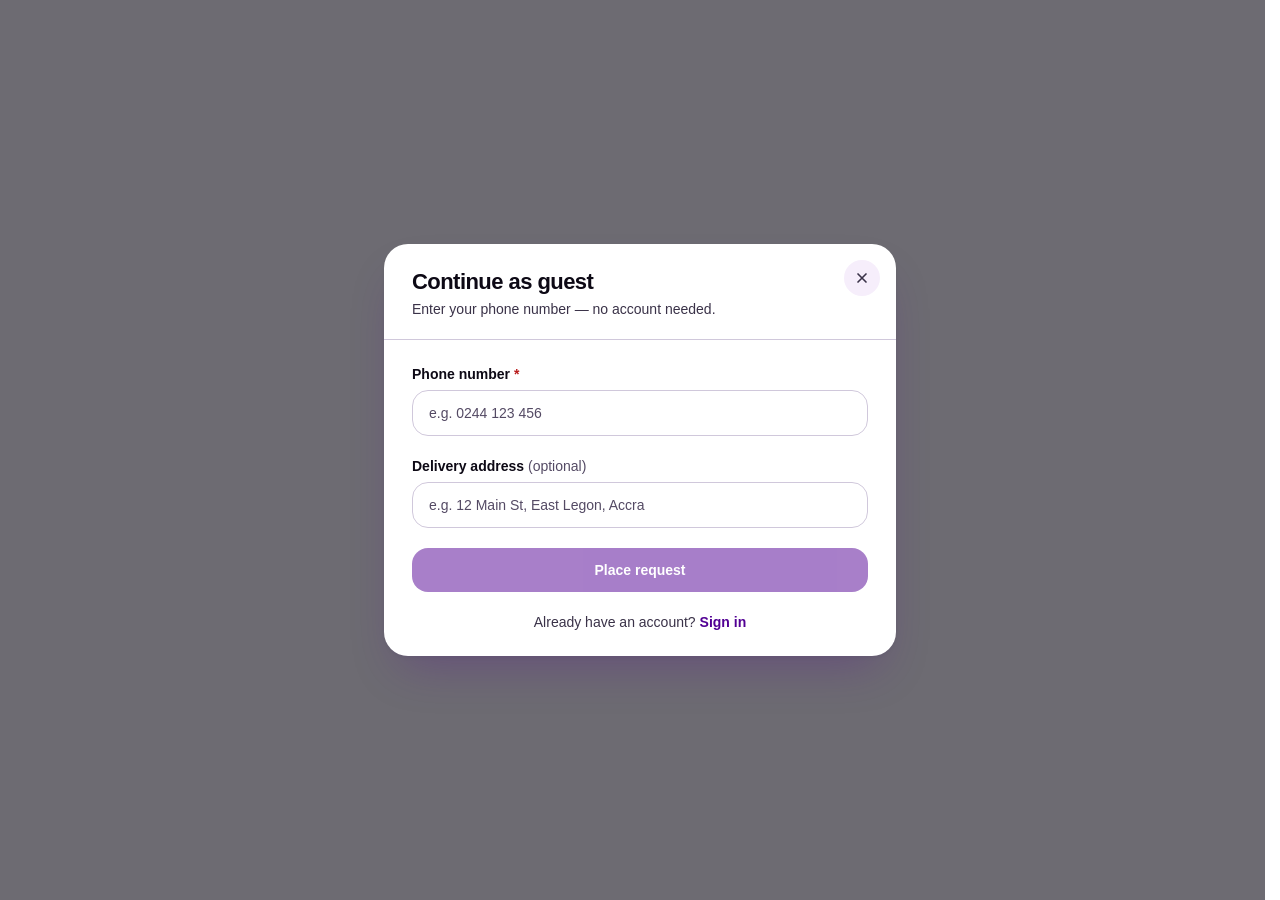
GuestCheckoutForm › placing the request › thanks the customer and says the SMS carries a link to track the order
Type "0244123456" into the field with id "guest-phone" at [640, 413], box [412,390,868,436]
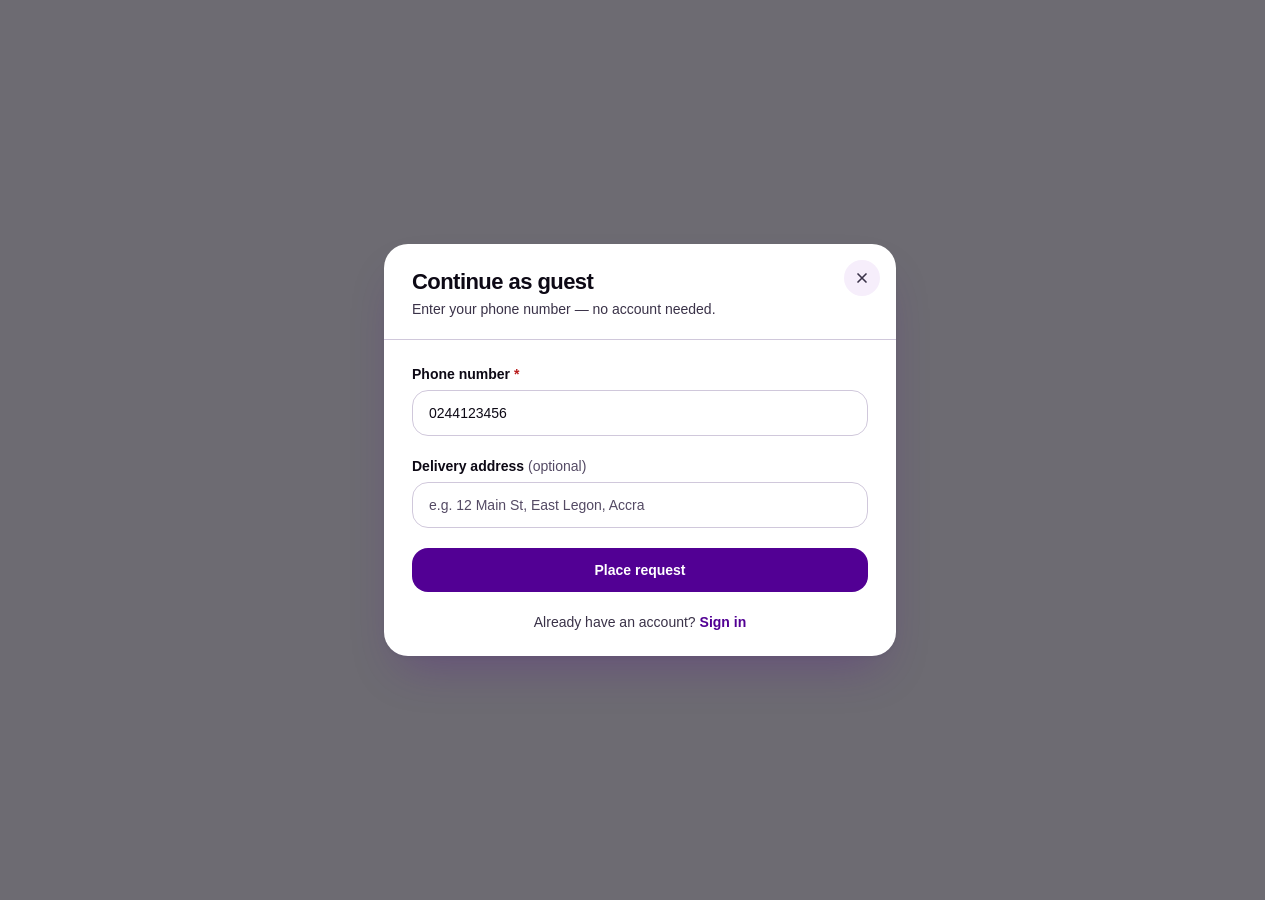
Submit the form, box [384,340,896,656]
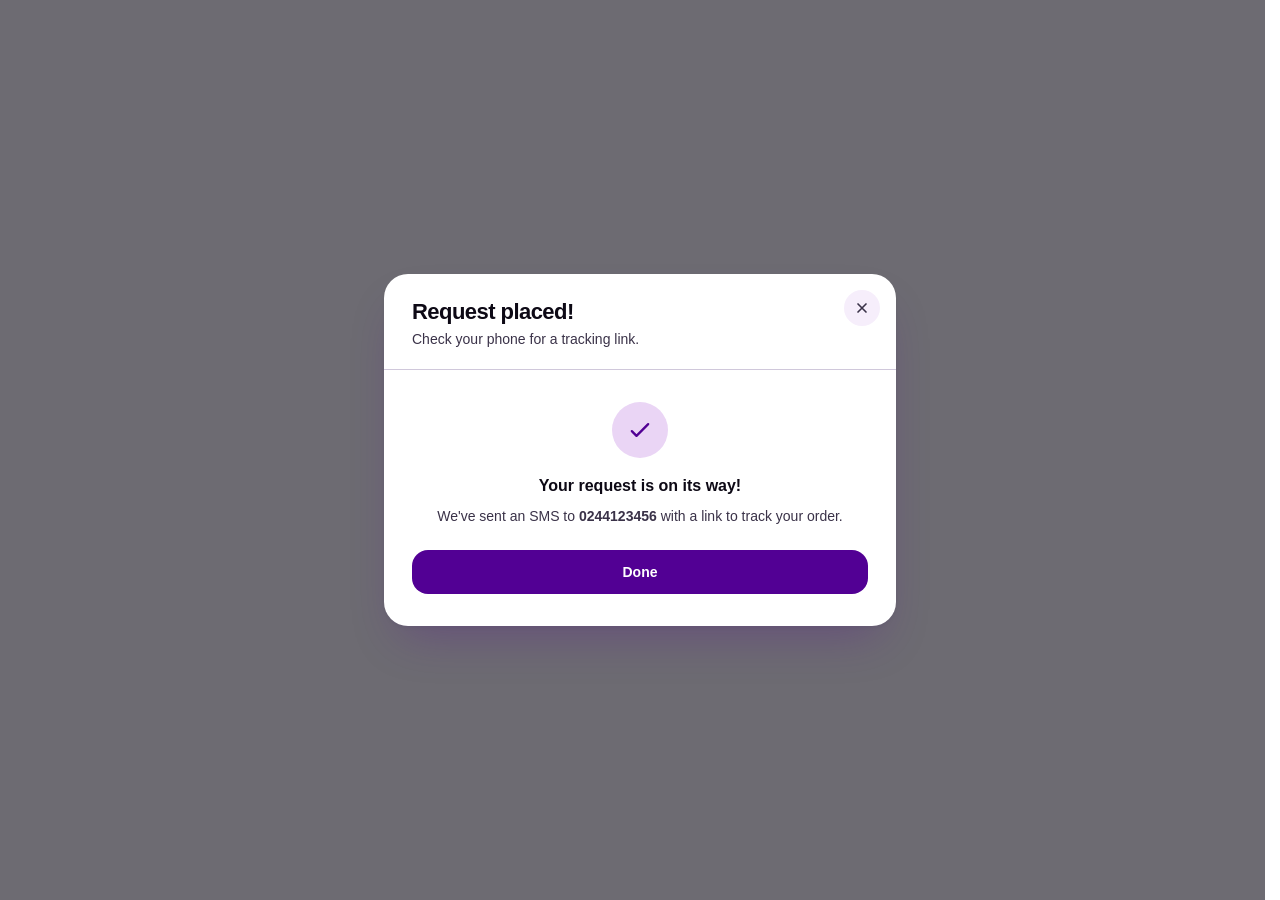
Check: the heading "Request placed!" is shown, box [412,299,574,324]
Check: the text "0244123456" is shown, box [579,508,657,524]
Check: the text "with a link to track your order." is shown, box [657,508,843,524]
